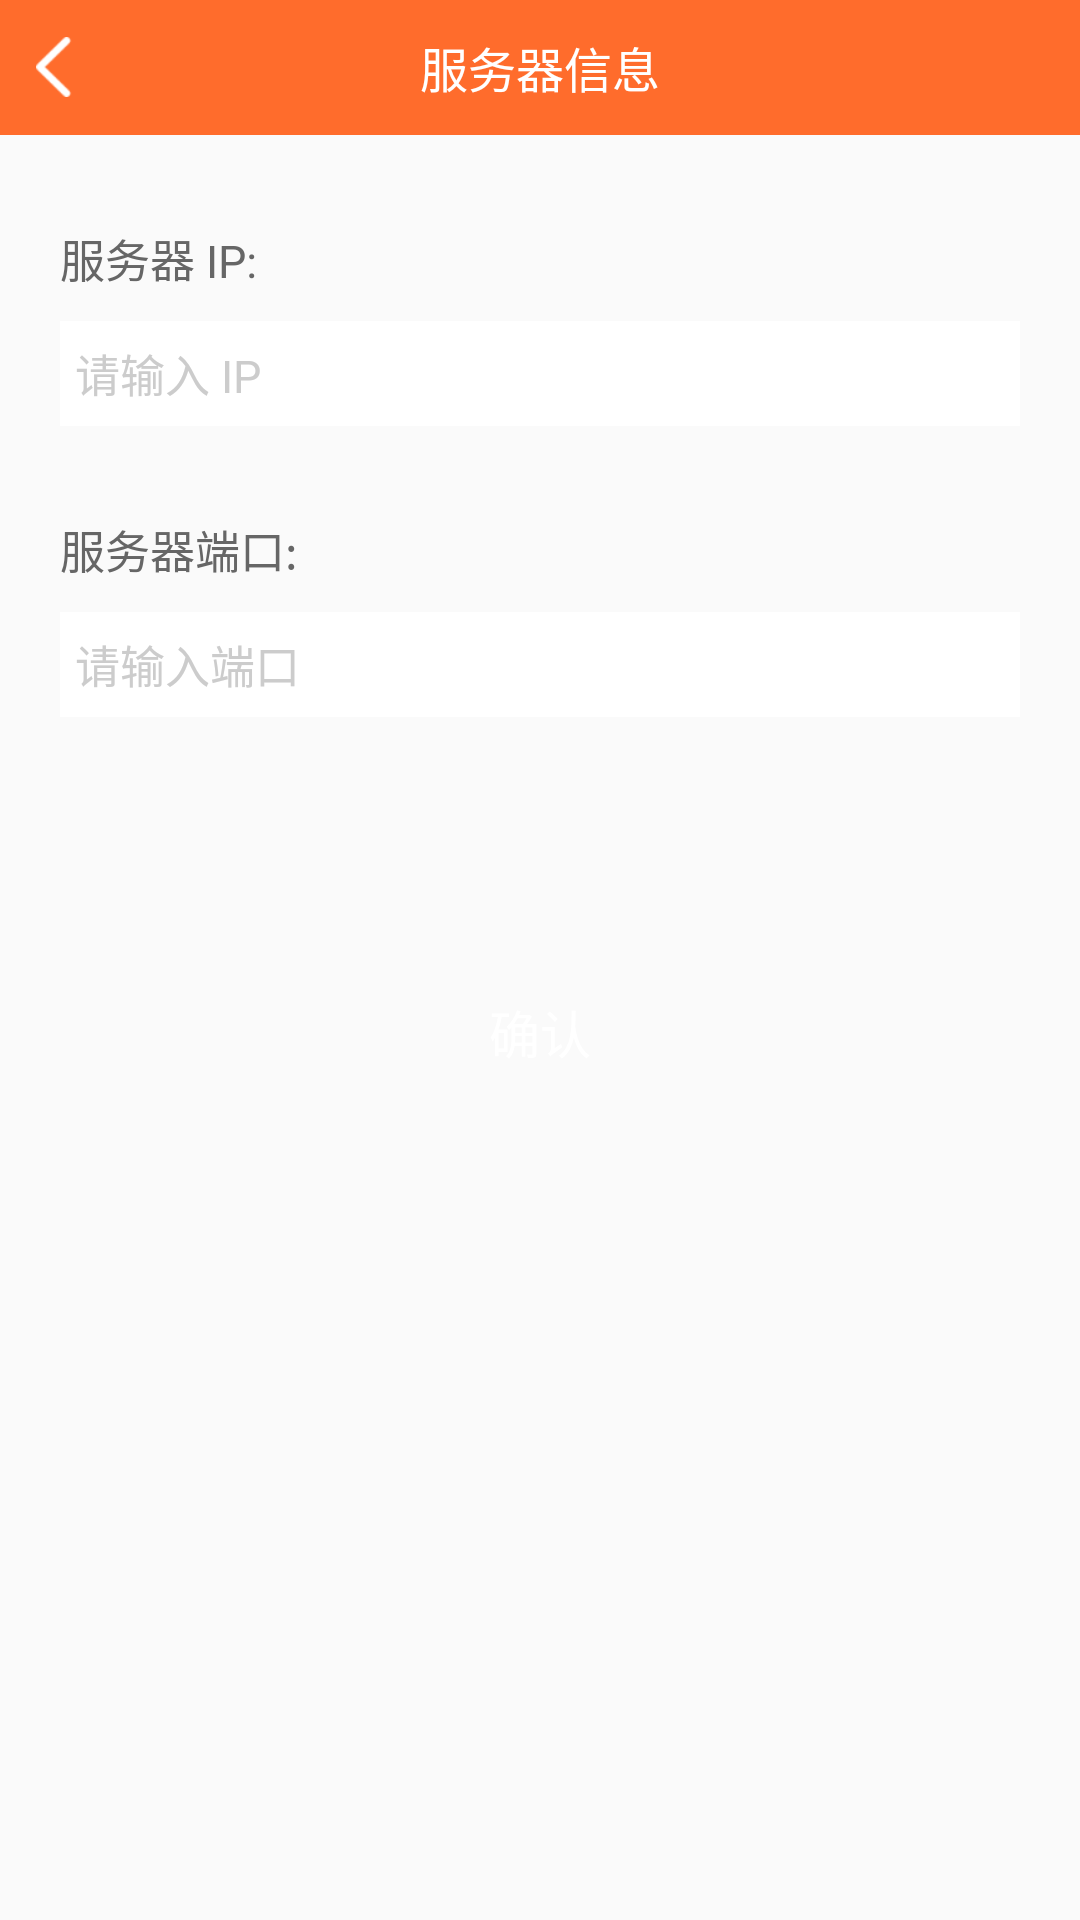

Icons on this 1080w x 1920h Android screen, each with its box as (x1, y1, x2, y2):
back: (36, 37, 71, 97)
